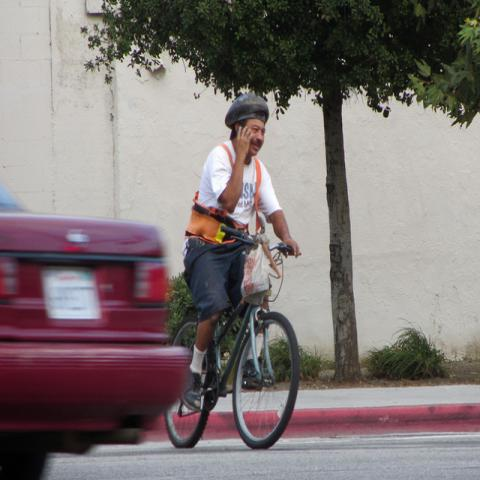car: (0, 179, 196, 479)
